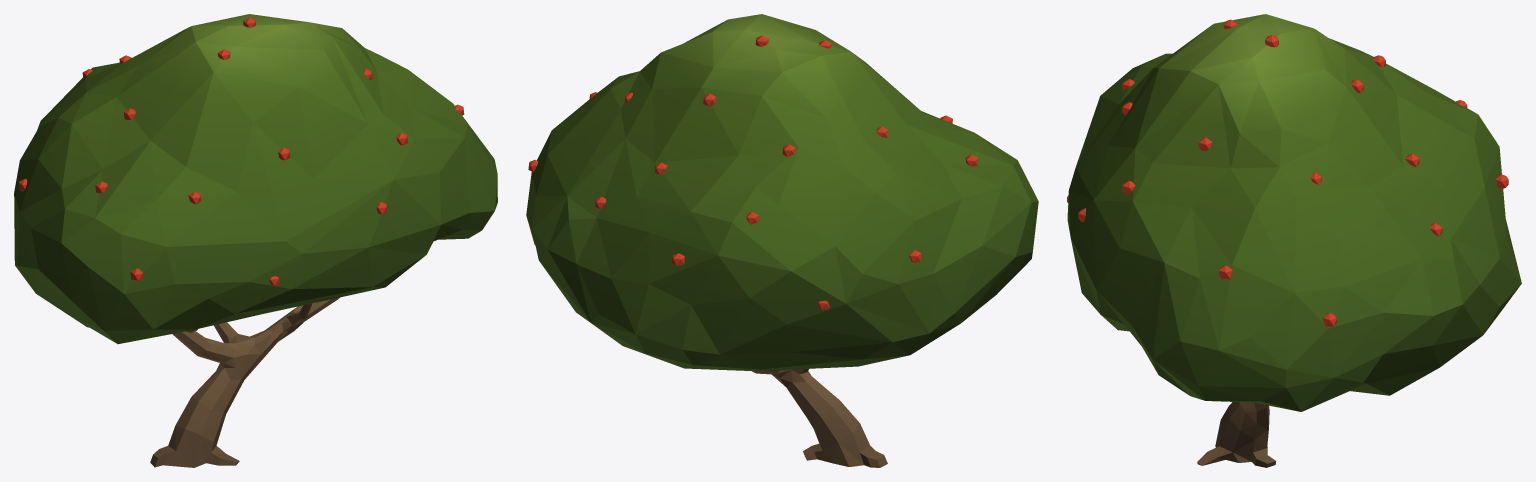
File: Mesh_Plants_AppleTree_03.FBX
The picture shows the model from 3 angles, left to right: view 1: azimuth 30°, elevation 25°; view 2: azimuth 150°, elevation 25°; view 3: azimuth 270°, elevation 25°; orthographic projection. The views are drawn at different scales.
Parts seen in each view (by area): view 1: Mesh_Plants_AppleTree_03; view 2: Mesh_Plants_AppleTree_03; view 3: Mesh_Plants_AppleTree_03.
Part boxes in pixels (x1,y1,x2,y2): Mesh_Plants_AppleTree_03: [14, 14, 497, 467]; Mesh_Plants_AppleTree_03: [526, 14, 1038, 467]; Mesh_Plants_AppleTree_03: [1067, 14, 1521, 467].
Size of the model in its own units: 256 by 221 by 201.
